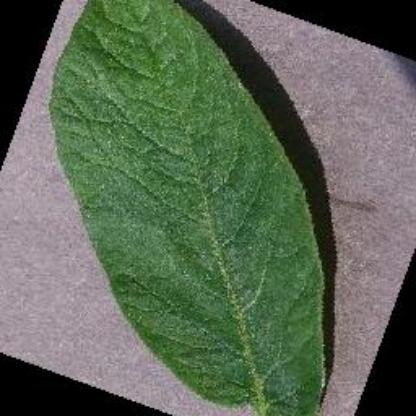Healthy-plant: (40, 0, 380, 416)
